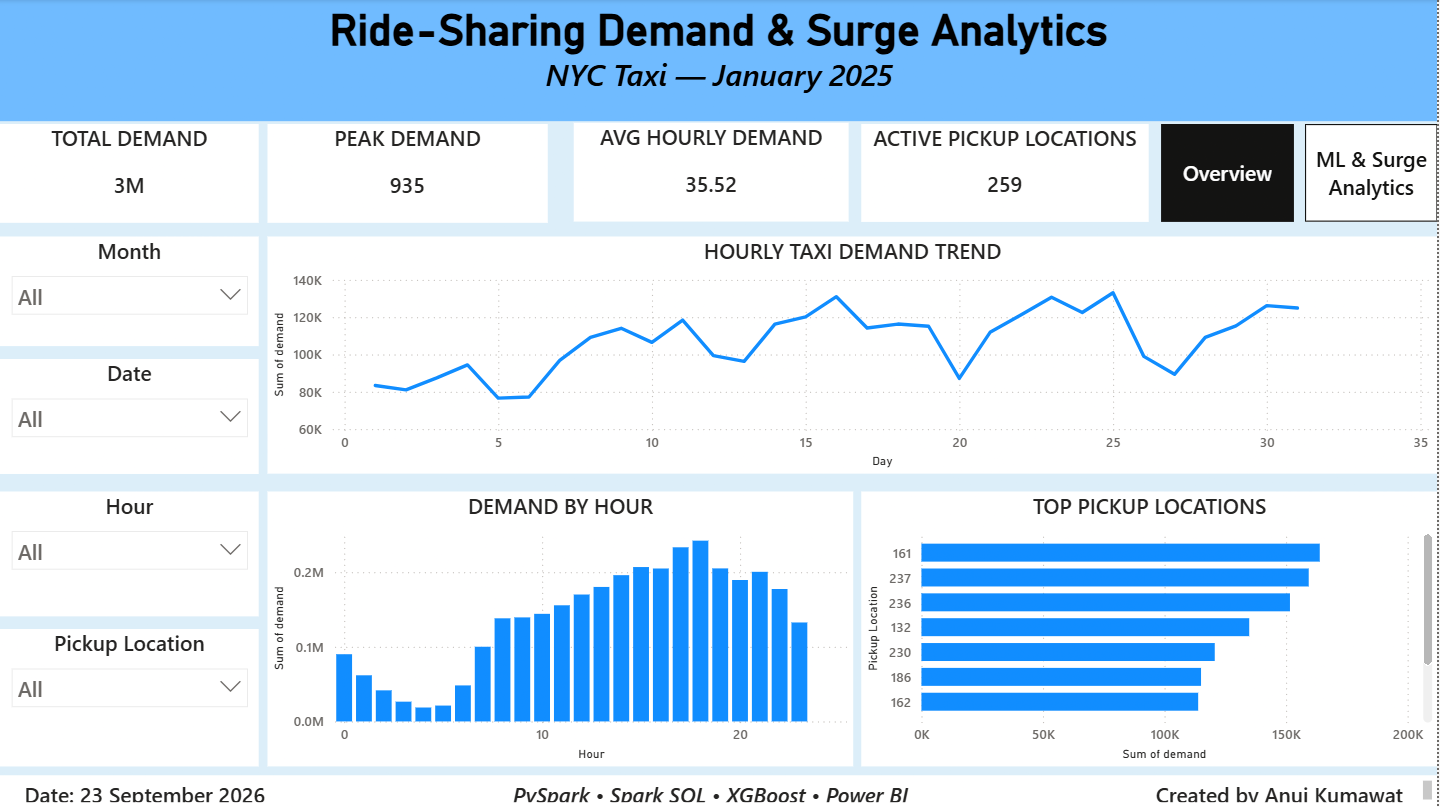

The page's visual inventory and layout, read from the dashboard file:
{"tool":"powerbi","page":{"name":"Overview","canvas":[1280,720],"ordinal":0},"visuals":[{"type":"textbox","box":[0,0,1280.3,108.9],"z":0},{"type":"card","title":"TOTAL DEMAND","fields":{"Values":["Sum(hourly_demand.demand)"]},"box":[0,111.3,230.4,87.9],"z":1000},{"type":"card","title":"PEAK DEMAND","fields":{"Values":["Max(hourly_demand.demand)"]},"box":[238.2,111.3,249.4,87.9],"z":2000},{"type":"card","title":"AVG HOURLY DEMAND","fields":{"Values":["Avg(hourly_demand.demand)"]},"box":[510.9,110.2,244.9,87.9],"z":3000},{"type":"lineChart","title":"HOURLY TAXI DEMAND TREND ","fields":{"Category":["hourly_demand.demand_hour.Variation.Date Hierarchy.Day"],"Y":["Sum(hourly_demand.demand)"]},"box":[238.2,211.5,1041.9,211.5],"z":4000},{"type":"clusteredColumnChart","title":"DEMAND BY HOUR  ","fields":{"Category":["hourly_demand.Hour"],"Y":["Sum(hourly_demand.demand)"]},"box":[238,438.4,521.8,244.8],"z":5000},{"type":"barChart","title":"TOP PICKUP LOCATIONS ","fields":{"Y":["Sum(hourly_demand.demand)"],"Category":["hourly_demand.Pickup Location"]},"box":[766.6,438.4,513.7,244.8],"z":6000},{"type":"slicer","title":"Hour","fields":{"Values":["hourly_demand.Pickup Hour"]},"box":[0,438.6,230.4,111.3],"z":7000},{"type":"slicer","title":"Pickup Location","fields":{"Values":["hourly_demand.PULocationID"]},"box":[0,561,230.4,122.4],"z":8000},{"type":"slicer","title":"Month","fields":{"Values":["hourly_demand.Pickup Date.Variation.Date Hierarchy.Month"]},"box":[0,211.5,230.4,98],"z":9000},{"type":"slicer","title":"Date","fields":{"Values":["hourly_demand.Pickup Date.Variation.Date Hierarchy.Day"]},"box":[0,320.6,230.4,102.4],"z":10000},{"type":"card","title":"ACTIVE PICKUP LOCATIONS","fields":{"Values":["Count(hourly_demand.PULocationID)"]},"box":[767,111.3,256,86.8],"z":11000},{"type":"pageNavigator","title":"Overview  ML & Surge","box":[1034.2,111.6,246.1,87.4],"z":12000},{"type":"textbox","box":[0,691.3,1280.2,28.9],"z":13000}]}

Visuals, with their boxes in screenshot pixels (x1, y1, x2, y2), scaled from the page's 1280x720 canvas onto the 1440x807 screenshot:
textbox: 0/0/1439/122
"TOTAL DEMAND" card: 0/125/259/223
"PEAK DEMAND" card: 268/125/549/223
"AVG HOURLY DEMAND" card: 575/124/850/222
"HOURLY TAXI DEMAND TREND " lineChart: 268/237/1439/474
"DEMAND BY HOUR  " clusteredColumnChart: 268/491/855/766
"TOP PICKUP LOCATIONS " barChart: 862/491/1439/766
"Hour" slicer: 0/492/259/616
"Pickup Location" slicer: 0/629/259/766
"Month" slicer: 0/237/259/347
"Date" slicer: 0/359/259/474
"ACTIVE PICKUP LOCATIONS" card: 863/125/1151/222
"Overview  ML & Surge" pageNavigator: 1163/125/1439/223
textbox: 0/775/1439/806
